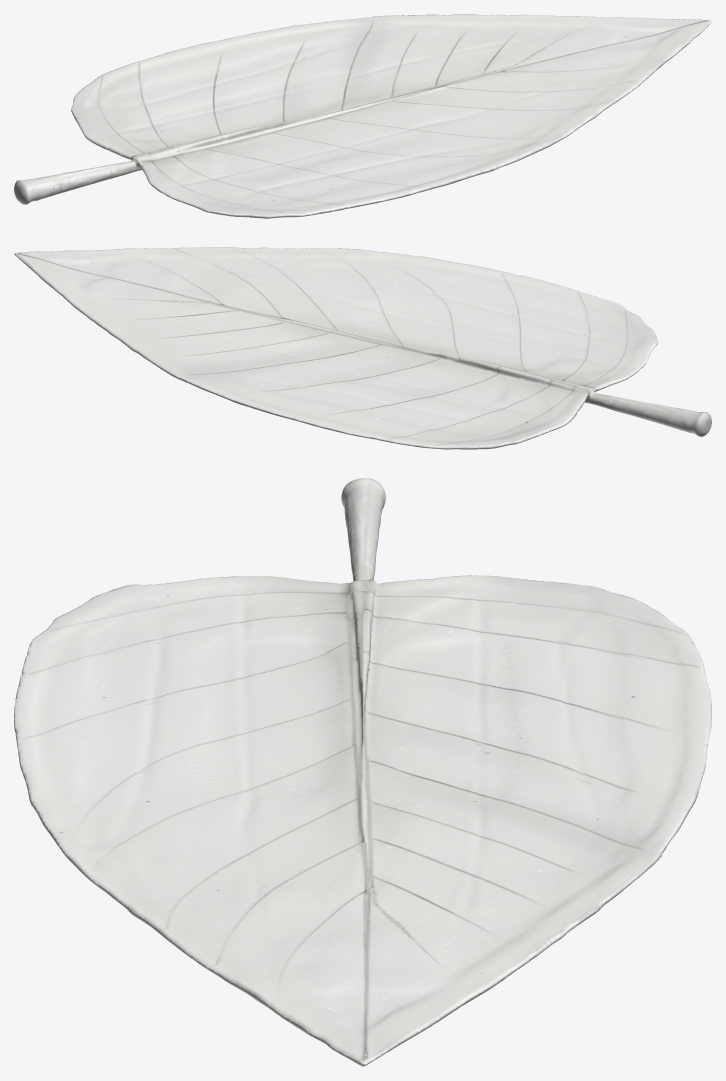
The model's file is folha.glb.
3 renders of one model, top to bottom at view 1: azimuth 30°, elevation 25°; view 2: azimuth 150°, elevation 25°; view 3: azimuth 270°, elevation 25°, orthographic. The views are drawn at different scales.
Size of the model in its own units: 2.01 by 0.0622 by 1.03.
Materials: 1 (1 with a texture image).
